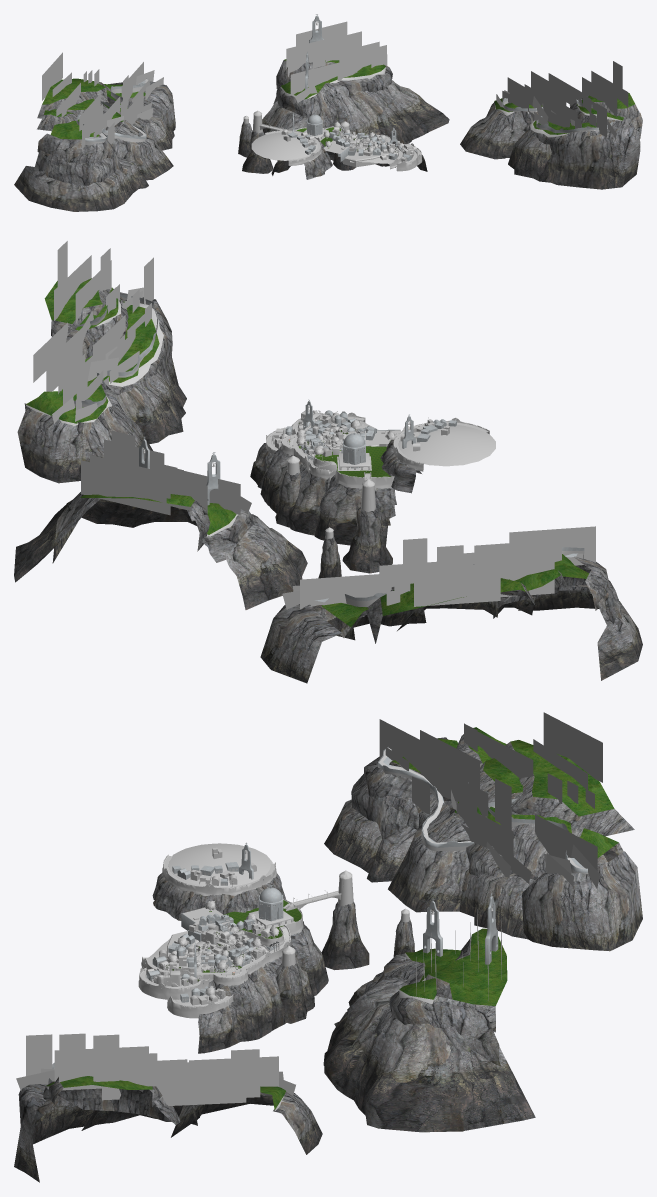
The model's file is MykHub.fbx.
3 renders of one model, top to bottom at view 1: azimuth 30°, elevation 25°; view 2: azimuth 150°, elevation 25°; view 3: azimuth 270°, elevation 25°, orthographic. The views are drawn at different scales.
Parts seen in each view (by area): view 1: myk_ter_ha_farAground_02, myk_ter_ha_farCground_02, myk_ter_ym_Criffbase_@01, myk_ter_ha_farCbuild_02, myk_ter_ha_farBbuild_02, myk_ter_ha_farAbuild_02, myk_ter_ha_farBground_02, myk_ter_kt_StonePlane_@13, myk_ter_ha_farAroad_02, myk_ter_ym_tallisland_@01, myk_ter_kt_CriffB_01, myk_ter_ha_farCroad_02 (+4 smaller); view 2: myk_ter_ha_farCground_02, myk_ter_ha_farAground_02, myk_ter_ha_farAbuild_02, myk_ter_ha_farCbuild_02, myk_ter_ym_Criffbase_@01, myk_ter_ha_farBbuild_02, myk_ter_ym_Criffbase_000, myk_ter_ha_farBground_02, myk_ter_kt_StonePlane_@13, myk_ter_ym_tallisland_@01, myk_ter_ym_LongWallAhi_01, myk_ter_yr_temple02 (+4 smaller); view 3: myk_ter_ha_farAground_02, myk_ter_ym_Criffbase_@01, myk_ter_ha_farAbuild_02, myk_ter_ha_farCbuild_02, myk_ter_ha_farCground_02, myk_ter_ha_farBground_02, myk_ter_ym_Criffbase_000, myk_ter_kt_CriffB_01, myk_ter_kt_StonePlane_@13, myk_ter_ym_tallisland_@01, myk_ter_ha_farAroad_02, myk_ter_ym_tallisland_@03 (+6 smaller).
Part boxes in pixels (bbox=[...]): myk_ter_ha_farAground_02: bbox=[14, 78, 175, 211]; myk_ter_ha_farCground_02: bbox=[460, 93, 642, 189]; myk_ter_ym_Criffbase_@01: bbox=[262, 80, 449, 143]; myk_ter_ha_farCbuild_02: bbox=[496, 61, 628, 139]; myk_ter_ha_farBbuild_02: bbox=[286, 21, 387, 103]; myk_ter_ha_farAbuild_02: bbox=[42, 52, 163, 151]; myk_ter_ha_farBground_02: bbox=[273, 59, 392, 121]; myk_ter_kt_StonePlane_@13: bbox=[251, 132, 317, 160]; myk_ter_ha_farAroad_02: bbox=[76, 78, 148, 145]; myk_ter_ym_tallisland_@01: bbox=[242, 130, 273, 173]; myk_ter_kt_CriffB_01: bbox=[301, 142, 332, 179]; myk_ter_ha_farCroad_02: bbox=[502, 98, 613, 133]; myk_ter_ha_farCground_02: bbox=[17, 278, 186, 483]; myk_ter_ha_farAground_02: bbox=[260, 554, 642, 683]; myk_ter_ha_farAbuild_02: bbox=[282, 526, 595, 616]; myk_ter_ha_farCbuild_02: bbox=[33, 241, 153, 423]; myk_ter_ym_Criffbase_@01: bbox=[14, 498, 307, 609]; myk_ter_ha_farBbuild_02: bbox=[81, 430, 251, 515]; myk_ter_ym_Criffbase_000: bbox=[250, 443, 396, 546]; myk_ter_ha_farBground_02: bbox=[52, 492, 253, 563]; myk_ter_kt_StonePlane_@13: bbox=[398, 424, 495, 466]; myk_ter_ym_tallisland_@01: bbox=[342, 507, 392, 573]; myk_ter_ym_LongWallAhi_01: bbox=[313, 446, 394, 488]; myk_ter_yr_temple02: bbox=[337, 431, 371, 470]; myk_ter_ha_farAground_02: bbox=[324, 727, 642, 951]; myk_ter_ym_Criffbase_@01: bbox=[323, 971, 535, 1132]; myk_ter_ha_farAbuild_02: bbox=[379, 712, 602, 889]; myk_ter_ha_farCbuild_02: bbox=[16, 1033, 295, 1106]; myk_ter_ha_farCground_02: bbox=[14, 1076, 322, 1182]; myk_ter_ha_farBground_02: bbox=[375, 928, 507, 1066]; myk_ter_ym_Criffbase_000: bbox=[198, 921, 328, 1053]; myk_ter_kt_CriffB_01: bbox=[152, 872, 285, 920]; myk_ter_kt_StonePlane_@13: bbox=[169, 843, 272, 886]; myk_ter_ym_tallisland_@01: bbox=[321, 902, 369, 970]; myk_ter_ha_farAroad_02: bbox=[378, 747, 588, 874]; myk_ter_ym_tallisland_@03: bbox=[276, 963, 307, 1023].
Size of what is drawn, in the model's own units: 750 by 154 by 523.
